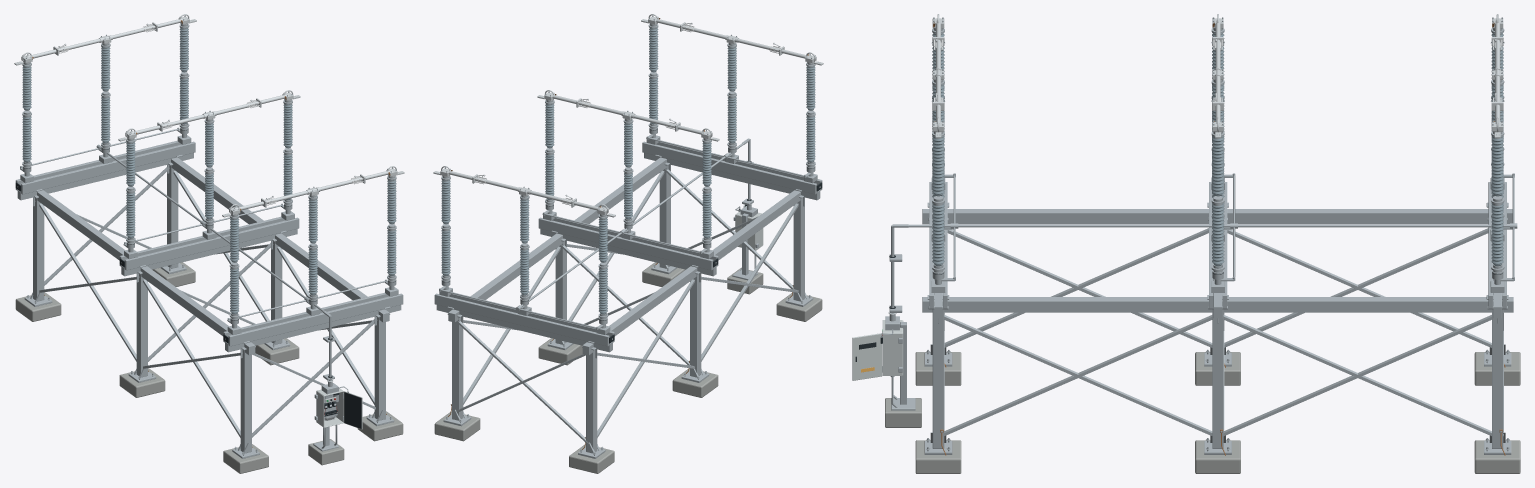
The model's file is horizontal-disconnect-service.glb.
The picture shows the model from 3 angles, left to right: view 1: azimuth 30°, elevation 25°; view 2: azimuth 150°, elevation 25°; view 3: azimuth 270°, elevation 25°; orthographic projection. The views are drawn at different scales.
Visible parts, largest first — view 1: Object100535, Object100536, Object100587, Object100259, Object100030, Object100573, Object100574, Object100016, Object100245, Object100589, Object100032, Object100261 (+31 smaller); view 2: Object100535, Object100536, Object100260, Object100588, Object100031, Object100245, Object100246, Object100016, Object100573, Object100261, Object100032, Object100589 (+31 smaller); view 3: Object100536, Object100535, Object100884, Object100574, Object100246, Object100017, Object100543, Object100541, Object100542, Object100544, Object100537, Object100539 (+17 smaller).
Part boxes in pixels (x1,y1,x2,y2): Object100535: (37, 190, 255, 355); Object100536: (171, 157, 389, 322); Object100587: (228, 293, 403, 346); Object100259: (21, 141, 195, 194); Object100030: (124, 217, 299, 270); Object100573: (240, 350, 251, 453); Object100574: (374, 317, 385, 420); Object100016: (136, 274, 147, 377); Object100245: (33, 198, 44, 301); Object100589: (225, 305, 401, 352); Object100032: (121, 229, 297, 276); Object100261: (17, 153, 193, 200); Object100535: (582, 190, 800, 355); Object100536: (448, 157, 666, 322); Object100260: (434, 293, 609, 346); Object100588: (642, 141, 816, 194); Object100031: (538, 217, 713, 270); Object100245: (586, 350, 597, 453); Object100246: (452, 317, 463, 420); Object100016: (690, 274, 701, 377); Object100573: (793, 198, 804, 301); Object100261: (436, 305, 612, 352); Object100032: (540, 229, 716, 276); Object100589: (644, 153, 820, 200); Object100536: (922, 297, 1513, 312); Object100535: (922, 209, 1512, 224); Object100884: (958, 224, 1509, 227); Object100574: (932, 309, 944, 448); Object100246: (1492, 309, 1503, 448); Object100017: (1212, 309, 1223, 448); Object100543: (1223, 315, 1491, 435); Object100541: (944, 315, 1212, 435); Object100542: (944, 315, 1212, 435); Object100544: (1223, 315, 1491, 436); Object100537: (944, 228, 1208, 347); Object100539: (1224, 228, 1488, 347).
Bounding box in the file's own units: 4.9 × 6.82 × 11.66.
